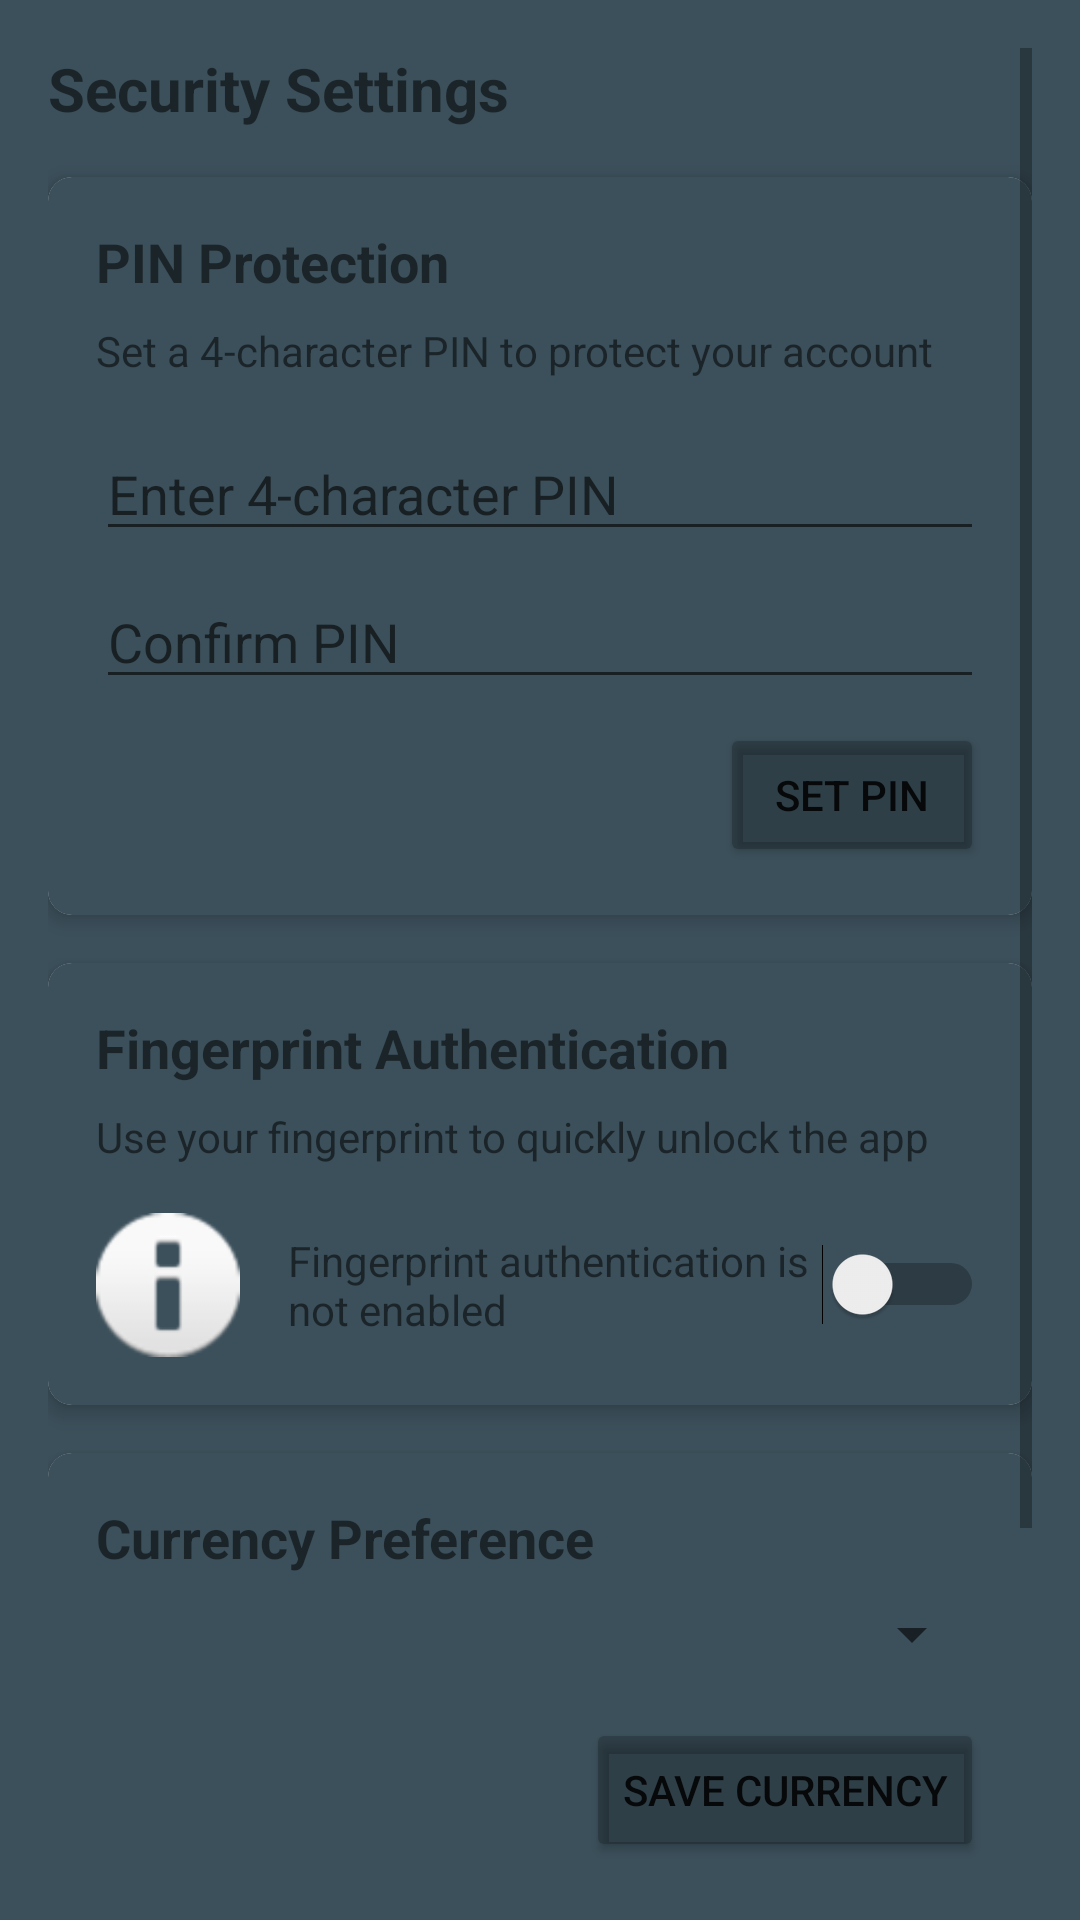

Where icons sit on this 1080*1920 app screen, as (x1, y1, x2, y2):
info: (96, 1213, 240, 1357)
